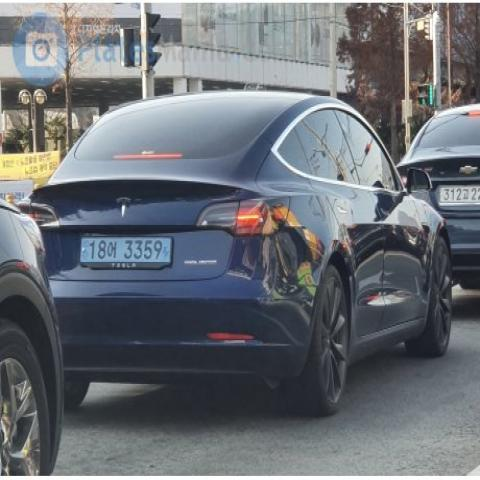LP: (72, 229, 180, 278)
